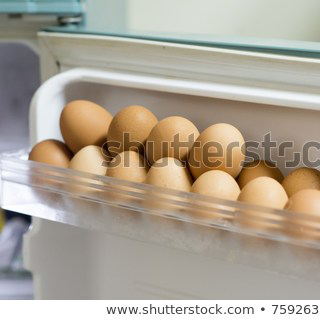egg: (28, 98, 320, 225)
